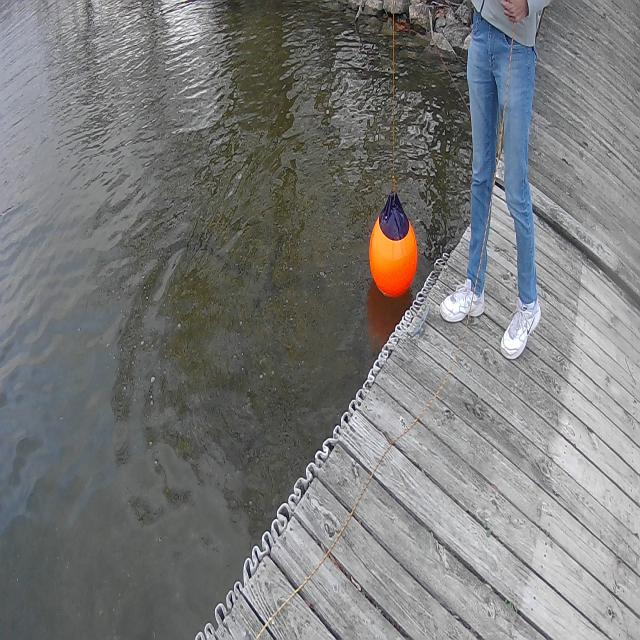Buoy: (362, 193, 425, 305)
